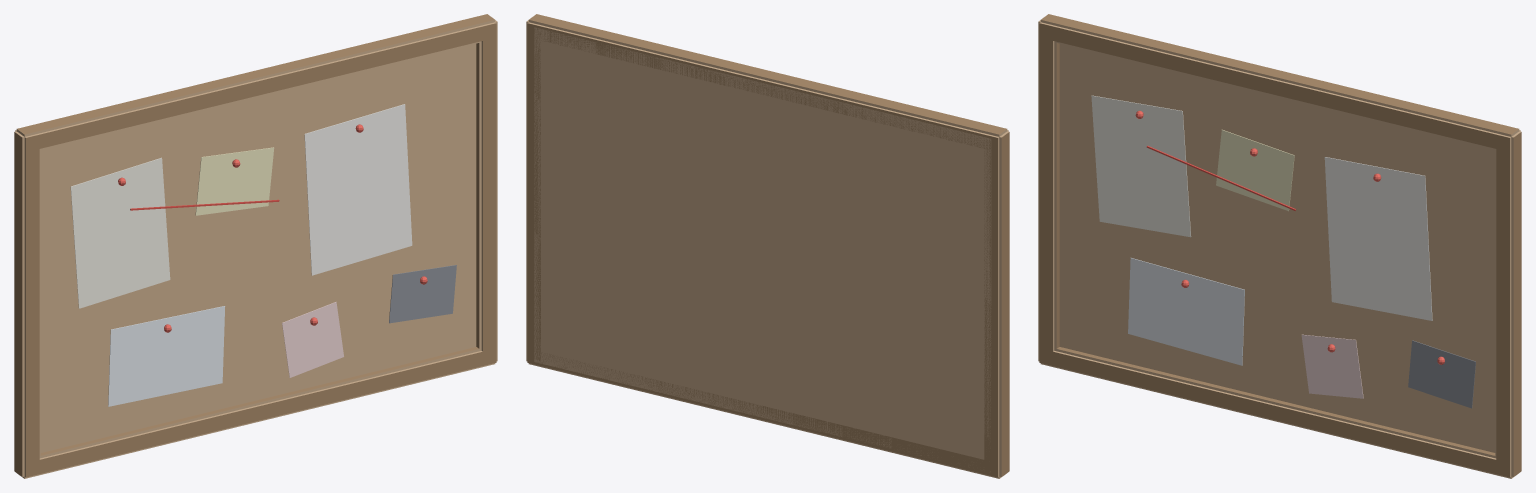
Rendered from corcho.glb.
3 renders of one model, left to right at view 1: azimuth 30°, elevation 25°; view 2: azimuth 150°, elevation 25°; view 3: azimuth 330°, elevation 25°, orthographic.
Visible parts, largest first — view 1: corcho; view 2: corcho; view 3: corcho.
Boxes of the visible parts, x1=… form: corcho: x1=14, y1=14, x2=497, y2=478; corcho: x1=526, y1=14, x2=1009, y2=478; corcho: x1=1038, y1=14, x2=1521, y2=478.
Size of the model in its own units: 1.04 by 0.72 by 0.04.
